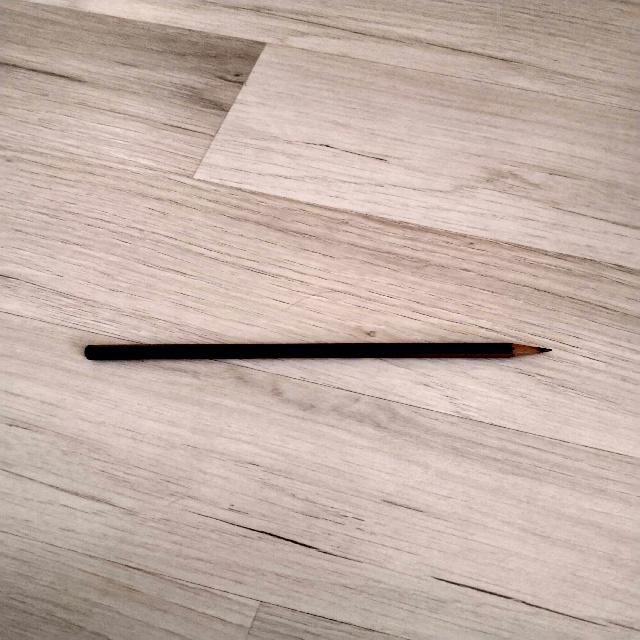pencil: (85, 343, 549, 360)
